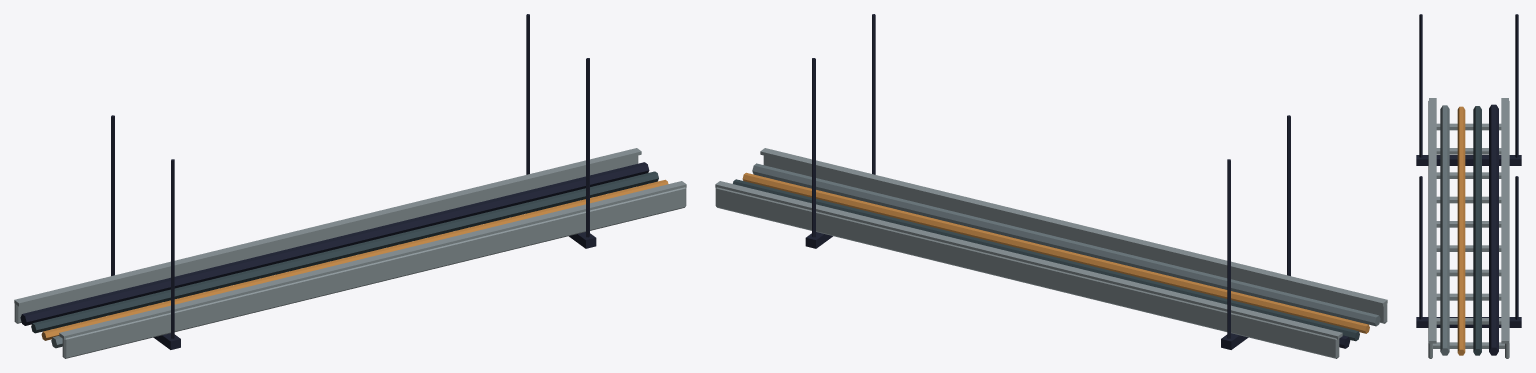
The model's file is sm_env_depot_cable_tray.glb.
3 views of the same model, side by side, from view 1: azimuth 30°, elevation 25°; view 2: azimuth 150°, elevation 25°; view 3: azimuth 270°, elevation 25° (orthographic). The views are drawn at different scales.
Visible parts, largest first — view 1: TrayRail.001, Cable, Cable.001, TrayRail, TrayLip, TrayLip.001, Cable.002, Rod.001, Rod.003, Rod, Rod.002; view 2: TrayRail, Cable.003, TrayRail.001, Cable.002, TrayLip.001, TrayLip, Cable.001, Rod, Rod.002, Rod.001, Rod.003; view 3: Cable, Cable.003, Cable.001, Cable.002, TrayLip, TrayLip.001, Trapeze, Rod, Rod.001, Rod.002, Rod.003, Trapeze.001 (+12 smaller).
Boxes of the visible parts, x1,y1,x2,y2 form: TrayRail.001: [62, 187, 686, 358]; Cable: [20, 162, 649, 325]; Cable.001: [31, 171, 658, 333]; TrayRail: [14, 155, 638, 323]; TrayLip: [14, 148, 641, 306]; TrayLip.001: [59, 181, 686, 339]; Cable.002: [41, 179, 668, 340]; Rod.001: [171, 159, 174, 338]; Rod.003: [586, 58, 589, 237]; Rod: [111, 115, 114, 275]; Rod.002: [526, 14, 529, 174]; TrayRail: [715, 187, 1339, 358]; Cable.003: [752, 163, 1380, 326]; TrayRail.001: [763, 155, 1387, 323]; Cable.002: [742, 172, 1369, 333]; TrayLip.001: [760, 148, 1387, 306]; TrayLip: [715, 181, 1342, 339]; Cable.001: [732, 179, 1359, 341]; Rod: [1227, 159, 1230, 338]; Rod.002: [812, 58, 815, 237]; Rod.001: [1287, 115, 1290, 275]; Rod.003: [872, 14, 875, 174]; Cable: [1489, 104, 1498, 355]; Cable.003: [1440, 105, 1449, 355]; Cable.001: [1473, 106, 1481, 355]; Cable.002: [1457, 106, 1465, 355]; TrayLip: [1501, 98, 1508, 343]; TrayLip.001: [1429, 98, 1436, 343]; Trapeze: [1416, 155, 1521, 165]; Rod: [1515, 14, 1518, 157]; Rod.001: [1419, 14, 1422, 157]; Rod.002: [1515, 176, 1518, 319]; Rod.003: [1419, 176, 1422, 319]; Trapeze.001: [1416, 317, 1521, 327].
Bounding box in the file's own units: 3 × 0.86 × 0.55.
